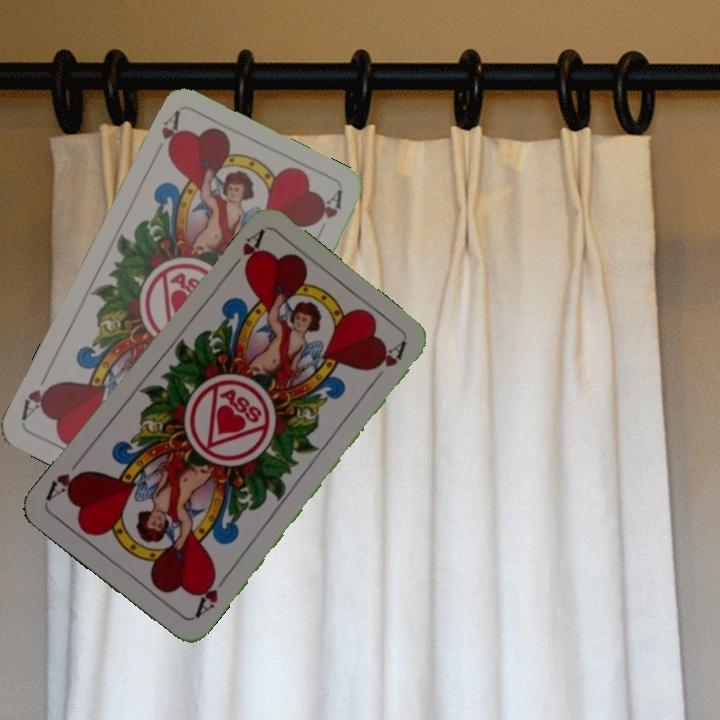HA: (223, 227, 267, 277), (190, 568, 230, 621), (157, 108, 184, 158)
